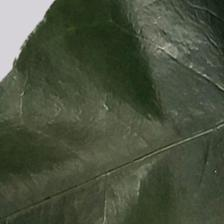healthy: (20, 14, 224, 224)
